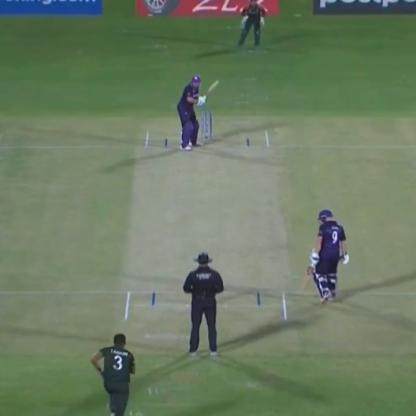bat: (199, 76, 225, 104), (298, 260, 315, 297)
pitch: (117, 132, 294, 322)
